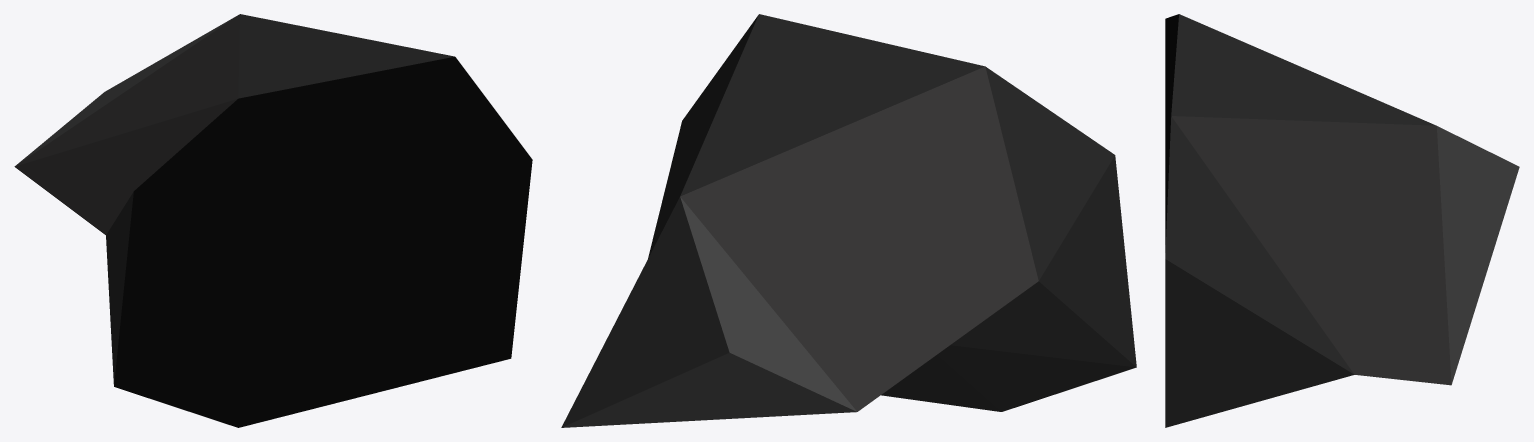
Rendered from rock_2.fbx.
The picture shows the model from 3 angles, left to right: view 1: azimuth 30°, elevation 25°; view 2: azimuth 150°, elevation 25°; view 3: azimuth 270°, elevation 25°; orthographic projection. The views are drawn at different scales.
Visible parts, largest first — view 1: rock_2; view 2: rock_2; view 3: rock_2.
Part boxes in pixels (x1,y1,x2,y2): rock_2: (14,14,532,427); rock_2: (561,14,1136,427); rock_2: (1165,14,1519,427).
Bounding box in the file's own units: 46.7 × 34.33 × 37.13.
